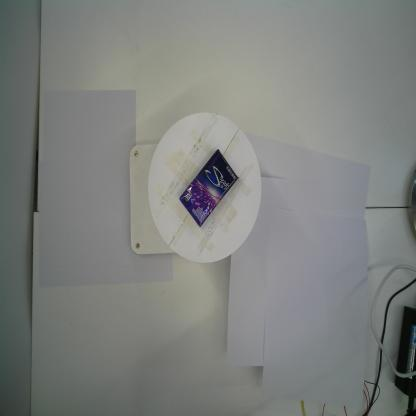Gum: (179, 149, 239, 228)
